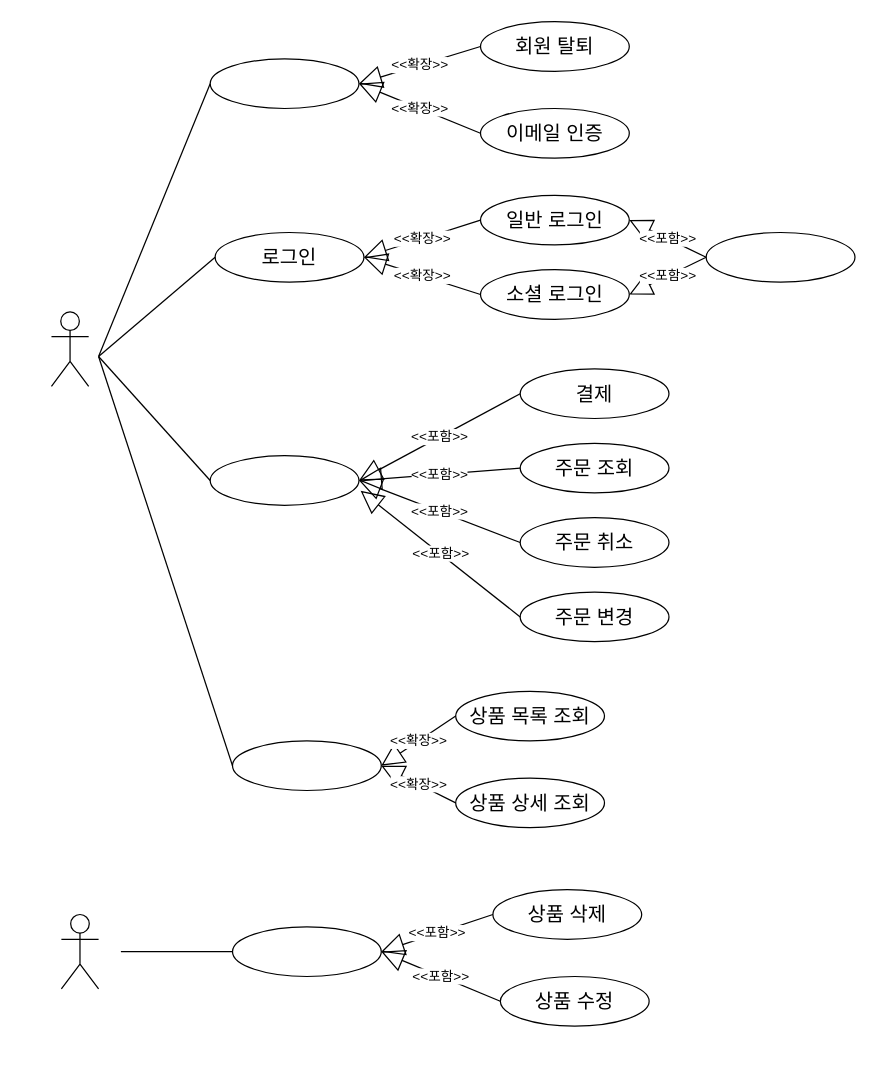
Some shapes in this 877 by 1066 pixel diagram are drawn without their labels. The centre of each missing label's shape, as x and y in pixels:
로그아웃: the point at 780,256
상품 등록: the point at 306,951
상품 조회: the point at 306,765
일반 사용자: the point at 69,348
주문 생성: the point at 284,479
판매자: the point at 79,951
회원가입: the point at 284,83
